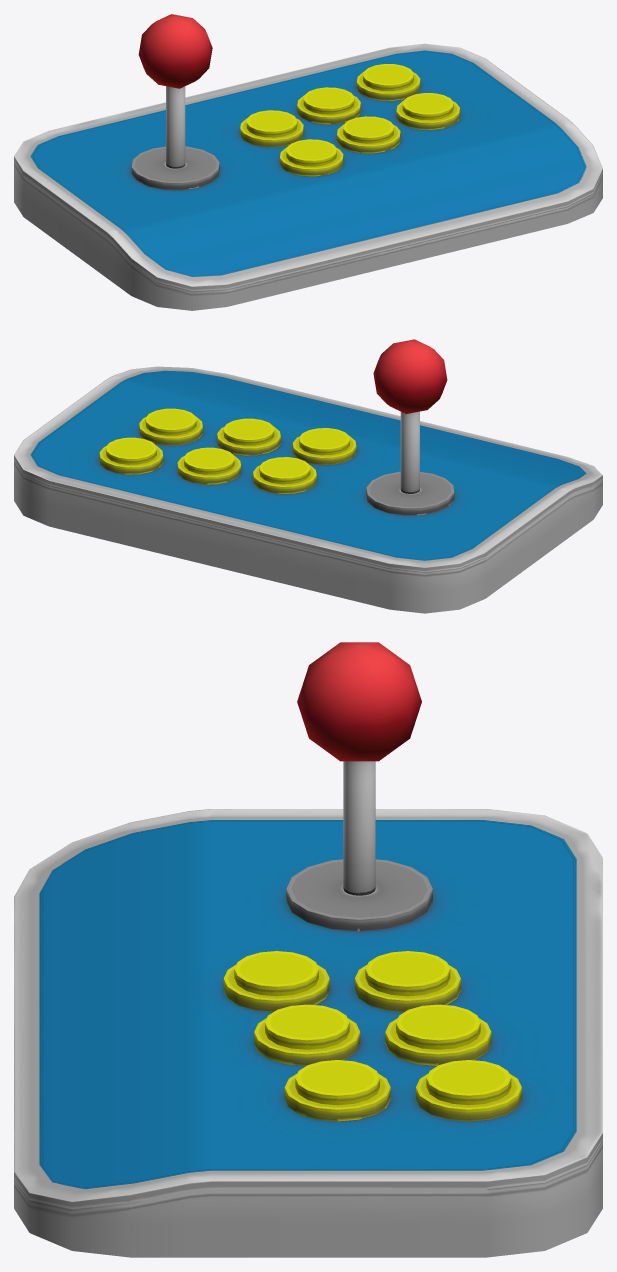
File: controller.glb
3 renders of one model, top to bottom at view 1: azimuth 30°, elevation 25°; view 2: azimuth 150°, elevation 25°; view 3: azimuth 270°, elevation 25°, orthographic. The views are drawn at different scales.
Parts seen in each view (by area): view 1: Controller; view 2: Controller; view 3: Controller.
Boxes of the visible parts, x1,y1,x2,y2 form: Controller: (14,14,602,310); Controller: (14,339,602,613); Controller: (14,642,602,1257).
Bounding box in the file's own units: 2 × 0.8286 × 1.34.
1 material, 1 textured.
